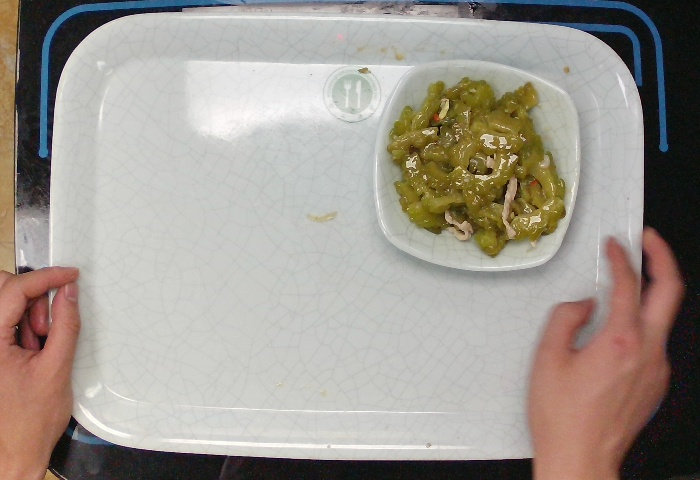WCQzf-Da_Si_Fang_Die: (371, 59, 585, 273)
